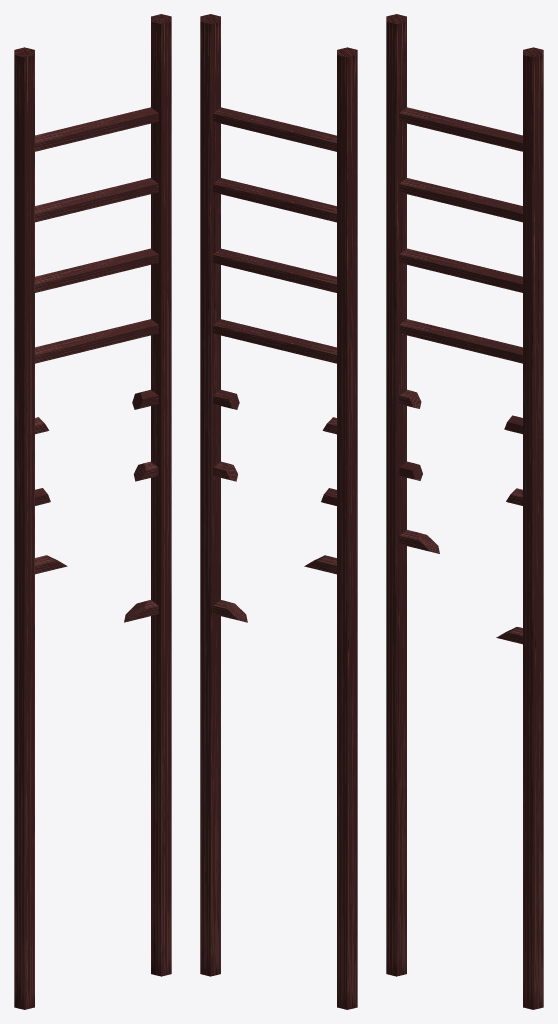
Rendered from ladder.fbx.
The picture shows the model from 3 angles, left to right: view 1: azimuth 30°, elevation 25°; view 2: azimuth 150°, elevation 25°; view 3: azimuth 330°, elevation 25°; orthographic projection.
Visible parts, largest first — view 1: Cylinder001; view 2: Cylinder001; view 3: Cylinder001.
Part boxes in pixels (x1,y1,x2,y2): Cylinder001: (14, 14, 171, 1009); Cylinder001: (200, 14, 357, 1009); Cylinder001: (386, 14, 543, 1009).
Size of the model in its own units: 23.86 by 138 by 2.73.
